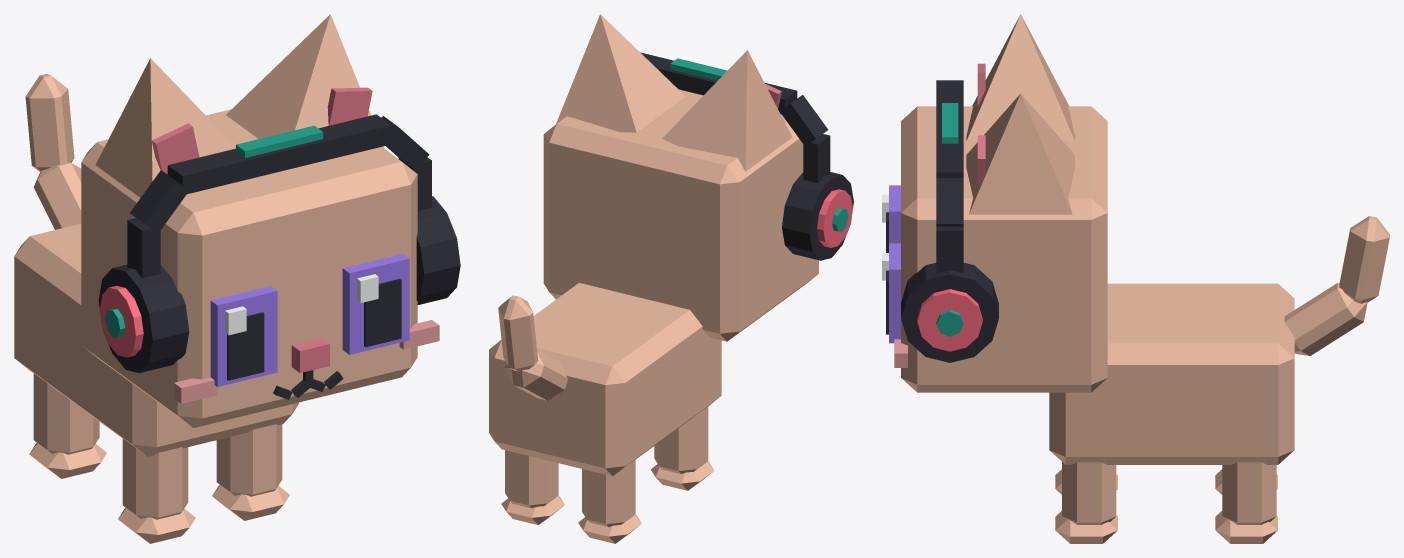
The model's file is CatCafe_Cat_Sphynx.fbx.
The picture shows the model from 3 angles, left to right: view 1: azimuth 30°, elevation 25°; view 2: azimuth 150°, elevation 25°; view 3: azimuth 270°, elevation 25°; orthographic projection. The views are drawn at different scales.
Visible parts, largest first — view 1: CatCafe_Cat_Sphynx_Head, CatCafe_Cat_Sphynx_Prop, CatCafe_Cat_Sphynx_Body, CatCafe_Cat_Sphynx_EarL, CatCafe_Cat_Sphynx_EarR, CatCafe_Cat_Sphynx_Tail, CatCafe_Cat_Sphynx_Eye1, CatCafe_Cat_Sphynx_Eye2, CatCafe_Cat_Sphynx_LegF2, CatCafe_Cat_Sphynx_LegF1, CatCafe_Cat_Sphynx_LegB2; view 2: CatCafe_Cat_Sphynx_Head, CatCafe_Cat_Sphynx_Body, CatCafe_Cat_Sphynx_Prop, CatCafe_Cat_Sphynx_EarL, CatCafe_Cat_Sphynx_EarR, CatCafe_Cat_Sphynx_Tail, CatCafe_Cat_Sphynx_LegB2, CatCafe_Cat_Sphynx_LegB1, CatCafe_Cat_Sphynx_LegF2; view 3: CatCafe_Cat_Sphynx_Body, CatCafe_Cat_Sphynx_Head, CatCafe_Cat_Sphynx_Prop, CatCafe_Cat_Sphynx_EarL, CatCafe_Cat_Sphynx_Tail, CatCafe_Cat_Sphynx_EarR, CatCafe_Cat_Sphynx_LegF1, CatCafe_Cat_Sphynx_LegB1, CatCafe_Cat_Sphynx_Eye1, CatCafe_Cat_Sphynx_Eye2.
Boxes of the visible parts, box(x1,y1,x2,y2) form: CatCafe_Cat_Sphynx_Head: box(81, 109, 439, 427); CatCafe_Cat_Sphynx_Prop: box(98, 114, 460, 372); CatCafe_Cat_Sphynx_Body: box(14, 223, 298, 456); CatCafe_Cat_Sphynx_EarL: box(226, 14, 384, 148); CatCafe_Cat_Sphynx_EarR: box(95, 58, 235, 197); CatCafe_Cat_Sphynx_Tail: box(25, 74, 81, 229); CatCafe_Cat_Sphynx_Eye1: box(342, 253, 409, 354); CatCafe_Cat_Sphynx_Eye2: box(210, 286, 277, 386); CatCafe_Cat_Sphynx_LegF2: box(118, 438, 195, 543); CatCafe_Cat_Sphynx_LegF1: box(212, 424, 289, 520); CatCafe_Cat_Sphynx_LegB2: box(29, 373, 106, 478); CatCafe_Cat_Sphynx_Head: box(543, 89, 818, 341); CatCafe_Cat_Sphynx_Body: box(489, 283, 721, 476); CatCafe_Cat_Sphynx_Prop: box(640, 52, 853, 260); CatCafe_Cat_Sphynx_EarL: box(556, 14, 685, 132); CatCafe_Cat_Sphynx_EarR: box(662, 50, 792, 171); CatCafe_Cat_Sphynx_Tail: box(498, 295, 567, 400); CatCafe_Cat_Sphynx_LegB2: box(578, 459, 641, 543); CatCafe_Cat_Sphynx_LegB1: box(501, 450, 564, 524); CatCafe_Cat_Sphynx_LegF2: box(651, 406, 714, 490); CatCafe_Cat_Sphynx_Body: box(1049, 283, 1294, 464); CatCafe_Cat_Sphynx_Head: box(894, 106, 1107, 392); CatCafe_Cat_Sphynx_Prop: box(901, 80, 998, 362); CatCafe_Cat_Sphynx_EarL: box(966, 93, 1074, 214); CatCafe_Cat_Sphynx_Tail: box(1284, 216, 1389, 355); CatCafe_Cat_Sphynx_EarR: box(966, 14, 1074, 141); CatCafe_Cat_Sphynx_LegF1: box(1055, 462, 1117, 543); CatCafe_Cat_Sphynx_LegB1: box(1215, 462, 1277, 543); CatCafe_Cat_Sphynx_Eye1: box(882, 243, 900, 343); CatCafe_Cat_Sphynx_Eye2: box(882, 185, 900, 252).
Size of the model in its own units: 1.28 by 1.88 by 1.87.
Materials: 1 (1 with a texture image).
